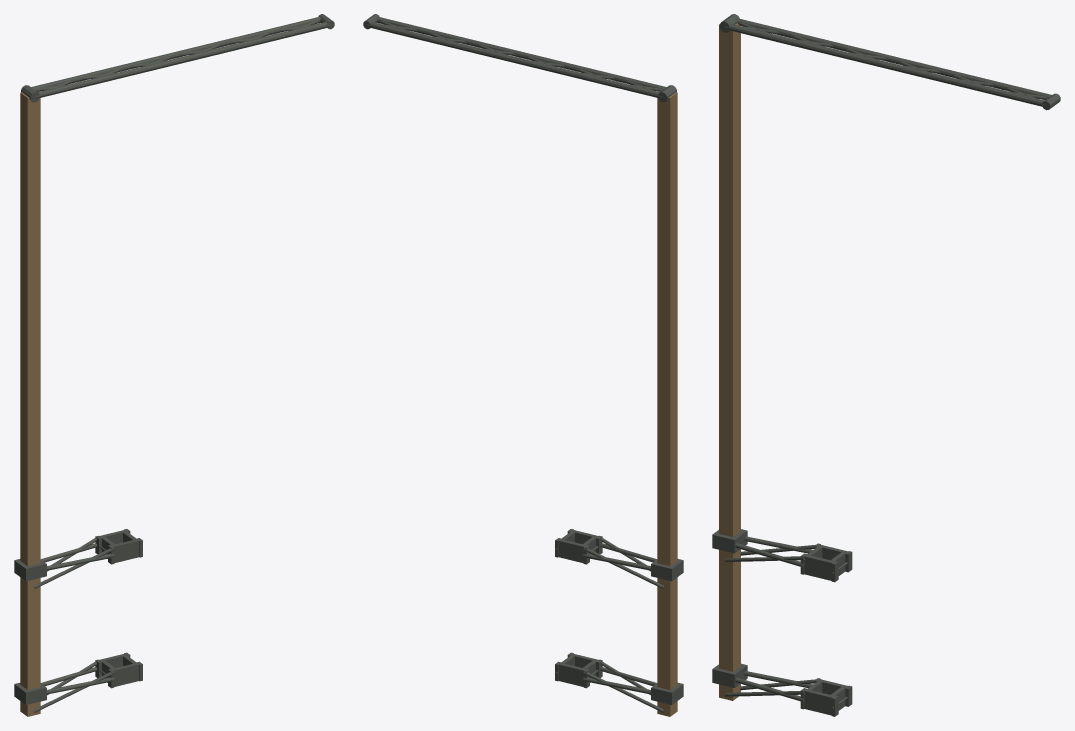
The model's file is summit-gin-pole-candidate.glb.
3 renders of one model, left to right at view 1: azimuth 30°, elevation 25°; view 2: azimuth 150°, elevation 25°; view 3: azimuth 330°, elevation 25°, orthographic. The views are drawn at different scales.
Visible parts, largest first — view 1: fixed-six-metre-pole.006, fixed-jib-chord.013, fixed-jib-chord.012; view 2: fixed-six-metre-pole.006, fixed-jib-chord.012, fixed-jib-chord.013; view 3: fixed-six-metre-pole.006, fixed-jib-chord.013, fixed-jib-chord.012, collar-cheek.025, collar-cheek.027.
Part boxes in pixels (x1=…): fixed-six-metre-pole.006: x1=20, y1=92, x2=40, y2=716; fixed-jib-chord.013: x1=35, y1=21, x2=331, y2=98; fixed-jib-chord.012: x1=31, y1=16, x2=320, y2=91; fixed-six-metre-pole.006: x1=657, y1=92, x2=677, y2=716; fixed-jib-chord.012: x1=366, y1=21, x2=662, y2=98; fixed-jib-chord.013: x1=377, y1=16, x2=666, y2=91; fixed-six-metre-pole.006: x1=719, y1=23, x2=740, y2=700; fixed-jib-chord.013: x1=724, y1=24, x2=1046, y2=106; fixed-jib-chord.012: x1=737, y1=18, x2=1051, y2=100; collar-cheek.025: x1=804, y1=689, x2=834, y2=715; collar-cheek.027: x1=804, y1=554, x2=834, y2=580.
Size of the model in its own units: 3.14 by 6.05 by 0.3.
